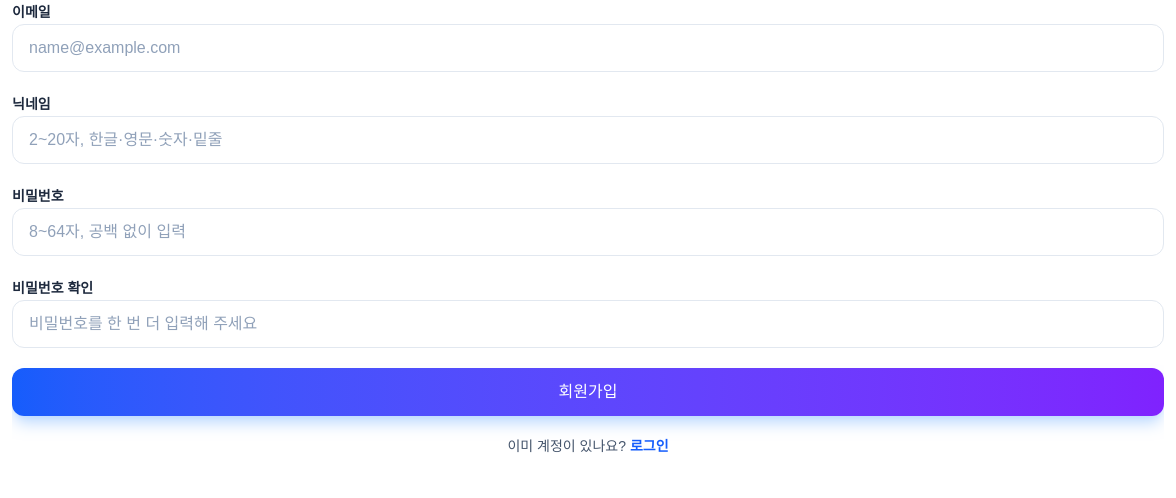
Test: SignUpForm › shows a password mismatch error
The image size is (1176, 498).
Expected: the button "회원가입" is enabled, 12,368 -> 1164,416
In the field labelled "이메일": x=588, y=48 12,24 -> 1164,72, type "user@example.com"
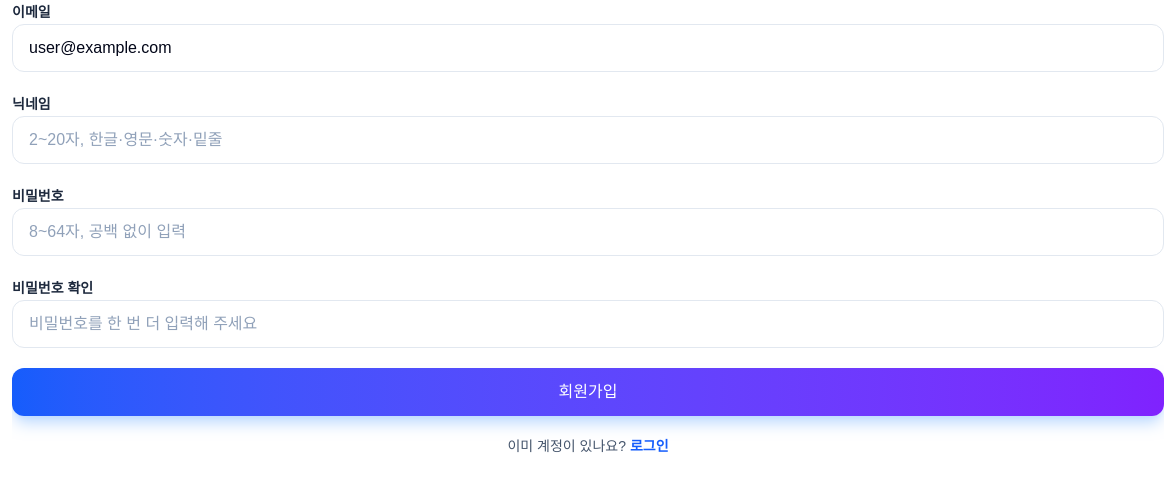
In the field labelled "닉네임": x=588, y=140 12,116 -> 1164,164, type "테크뷰"
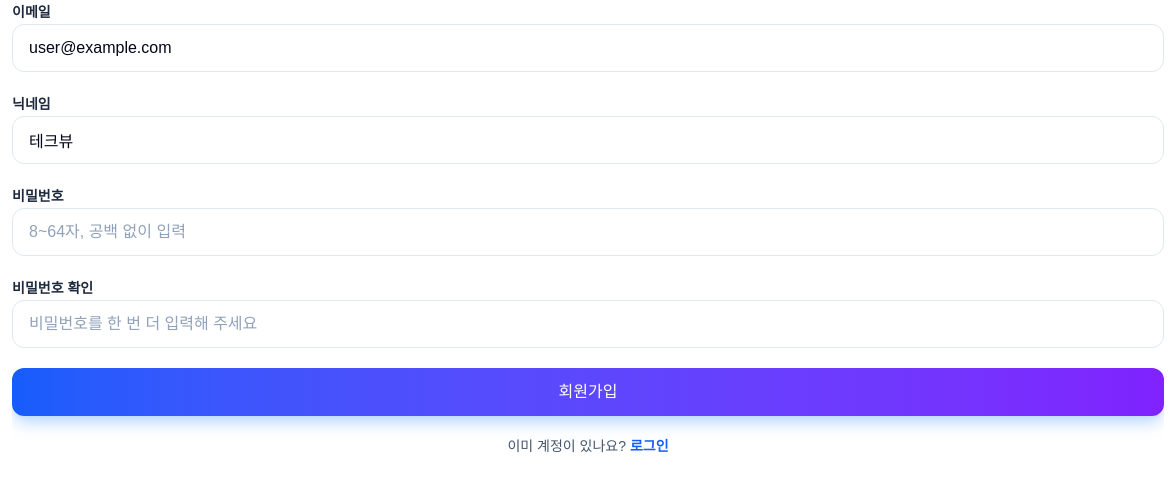
In the password field labelled "비밀번호": x=588, y=232 12,208 -> 1164,256, type "password123!"
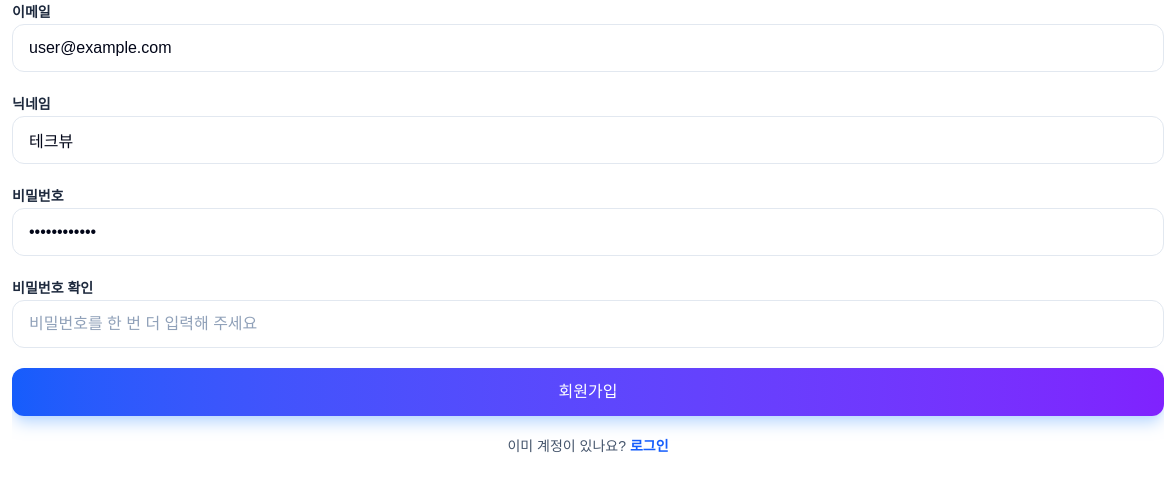
In the password field labelled "비밀번호 확인": x=588, y=324 12,300 -> 1164,348, type "different123!"
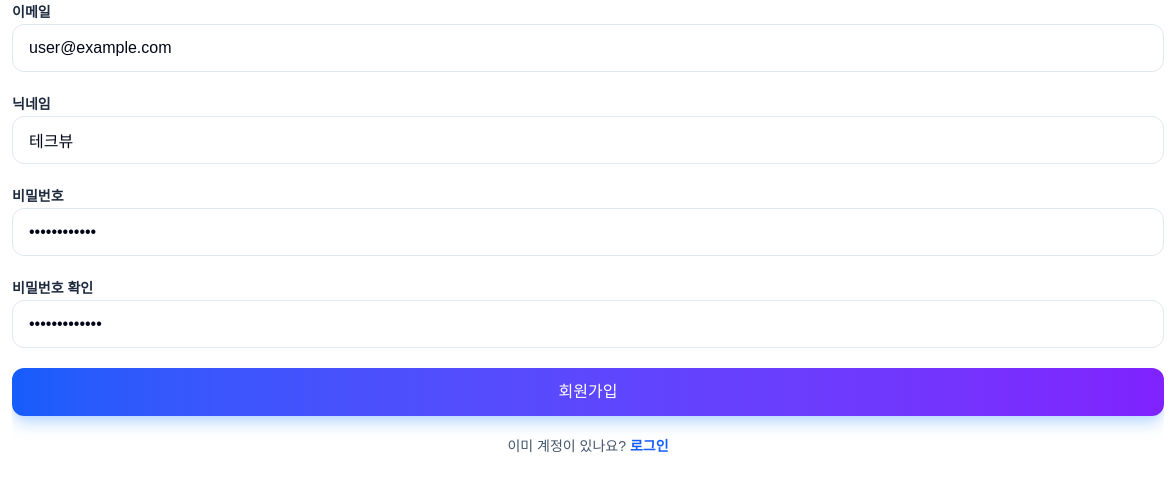
Click the button "회원가입": x=588, y=392 12,368 -> 1164,416
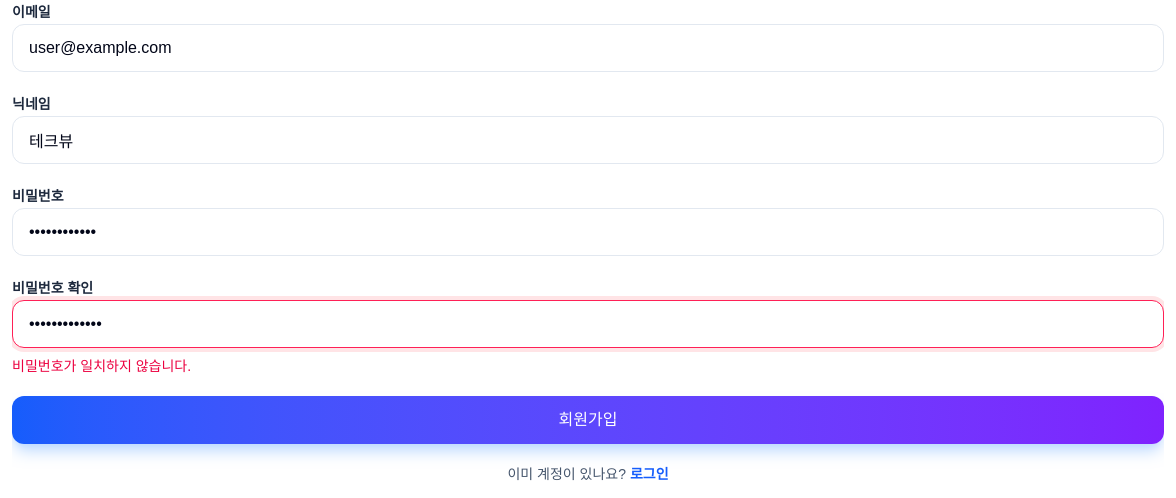
Expected: the text "비밀번호가 일치하지 않습니다." is shown, 12,358 -> 191,374
